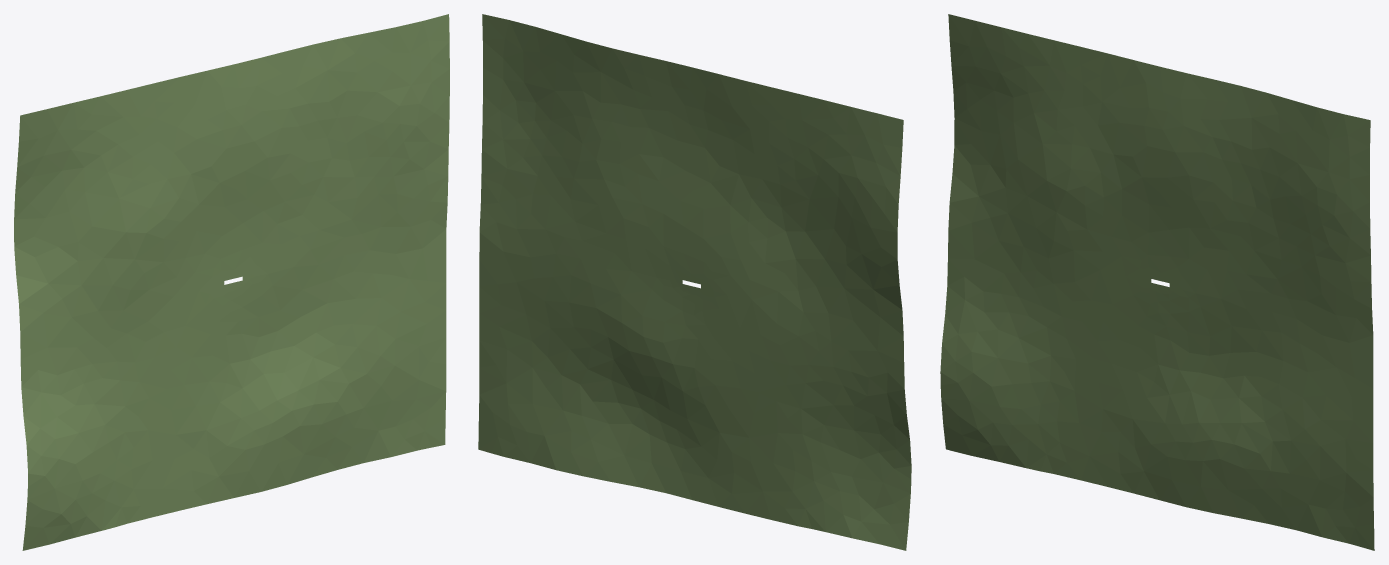
The model's file is MOIS_SensorView.obj.
The picture shows the model from 3 angles, left to right: view 1: azimuth 30°, elevation 25°; view 2: azimuth 150°, elevation 25°; view 3: azimuth 330°, elevation 25°; orthographic projection.
Visible parts, largest first — view 1: Background; view 2: Background; view 3: Background.
Boxes of the visible parts, box(x1,y1,x2,y2) form: Background: box(14, 14, 449, 550); Background: box(478, 14, 911, 550); Background: box(940, 14, 1374, 550).
Bounding box in the file's own units: 627 × 610 × 35.83.
